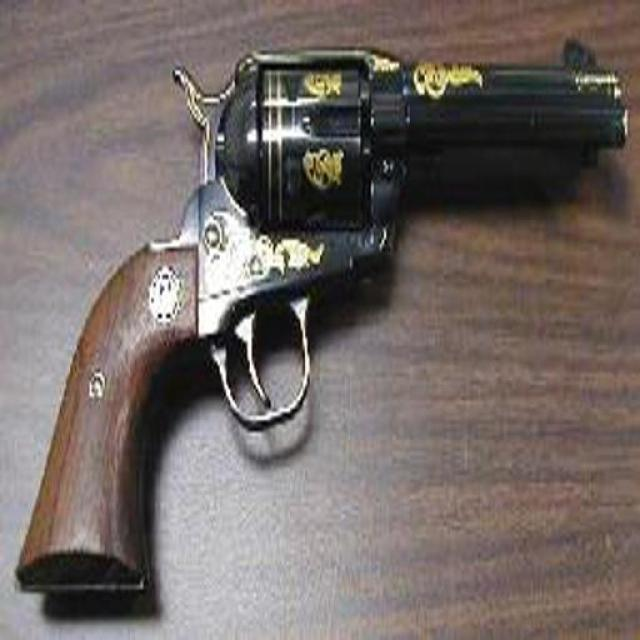pistol: (12, 38, 626, 596)
